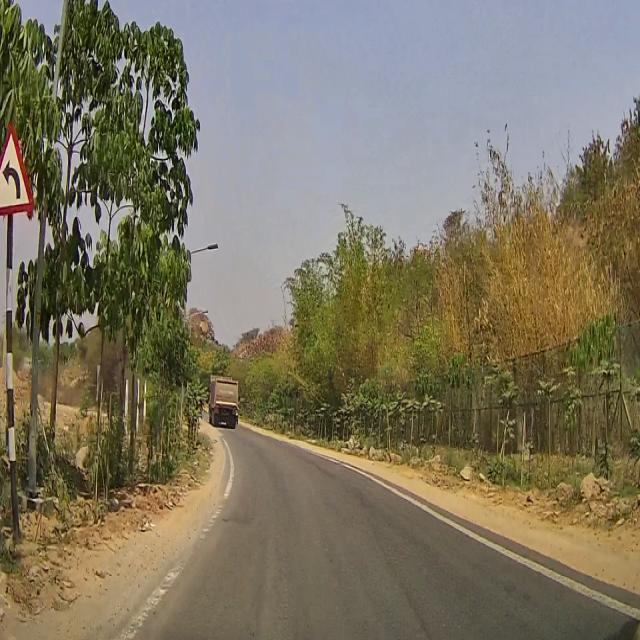left-hand-curve: (1, 105, 32, 214)
